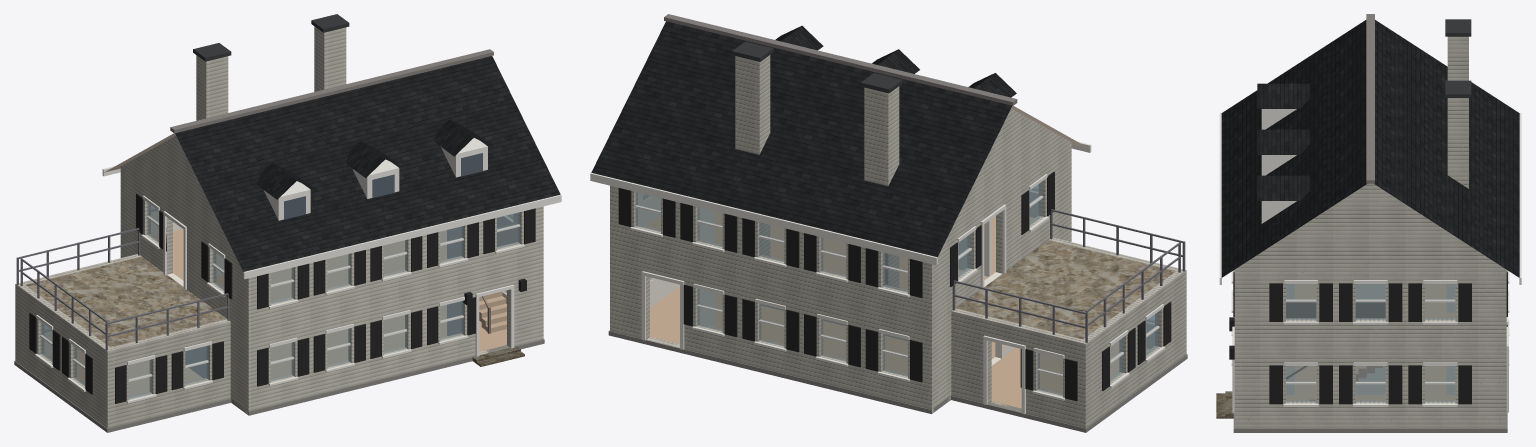
The model's file is ns-colonial.towns-v1.lod0.glb.
3 renders of one model, left to right at view 1: azimuth 30°, elevation 25°; view 2: azimuth 150°, elevation 25°; view 3: azimuth 270°, elevation 25°, orthographic. The views are drawn at different scales.
Parts seen in each view (by area): view 1: ns-colonial; view 2: ns-colonial; view 3: ns-colonial.
Part boxes in pixels (x1,y1,x2,y2): ns-colonial: (14, 14, 561, 432); ns-colonial: (590, 14, 1187, 432); ns-colonial: (1216, 14, 1521, 432).
Size of the model in its own units: 17.59 by 10.54 by 10.09.
Materials: 7 (3 with a texture image).
